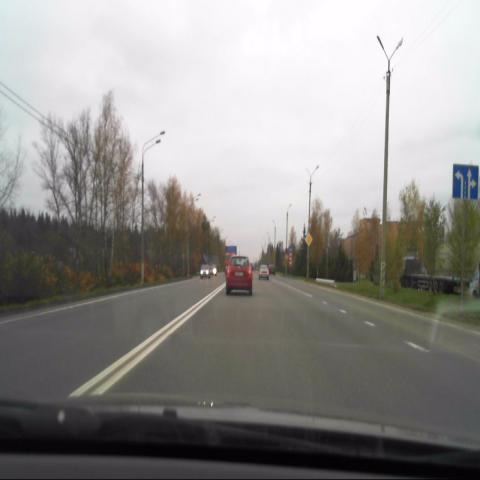2_1: (305, 231, 313, 248)
5_15_2_2: (453, 163, 479, 203)
